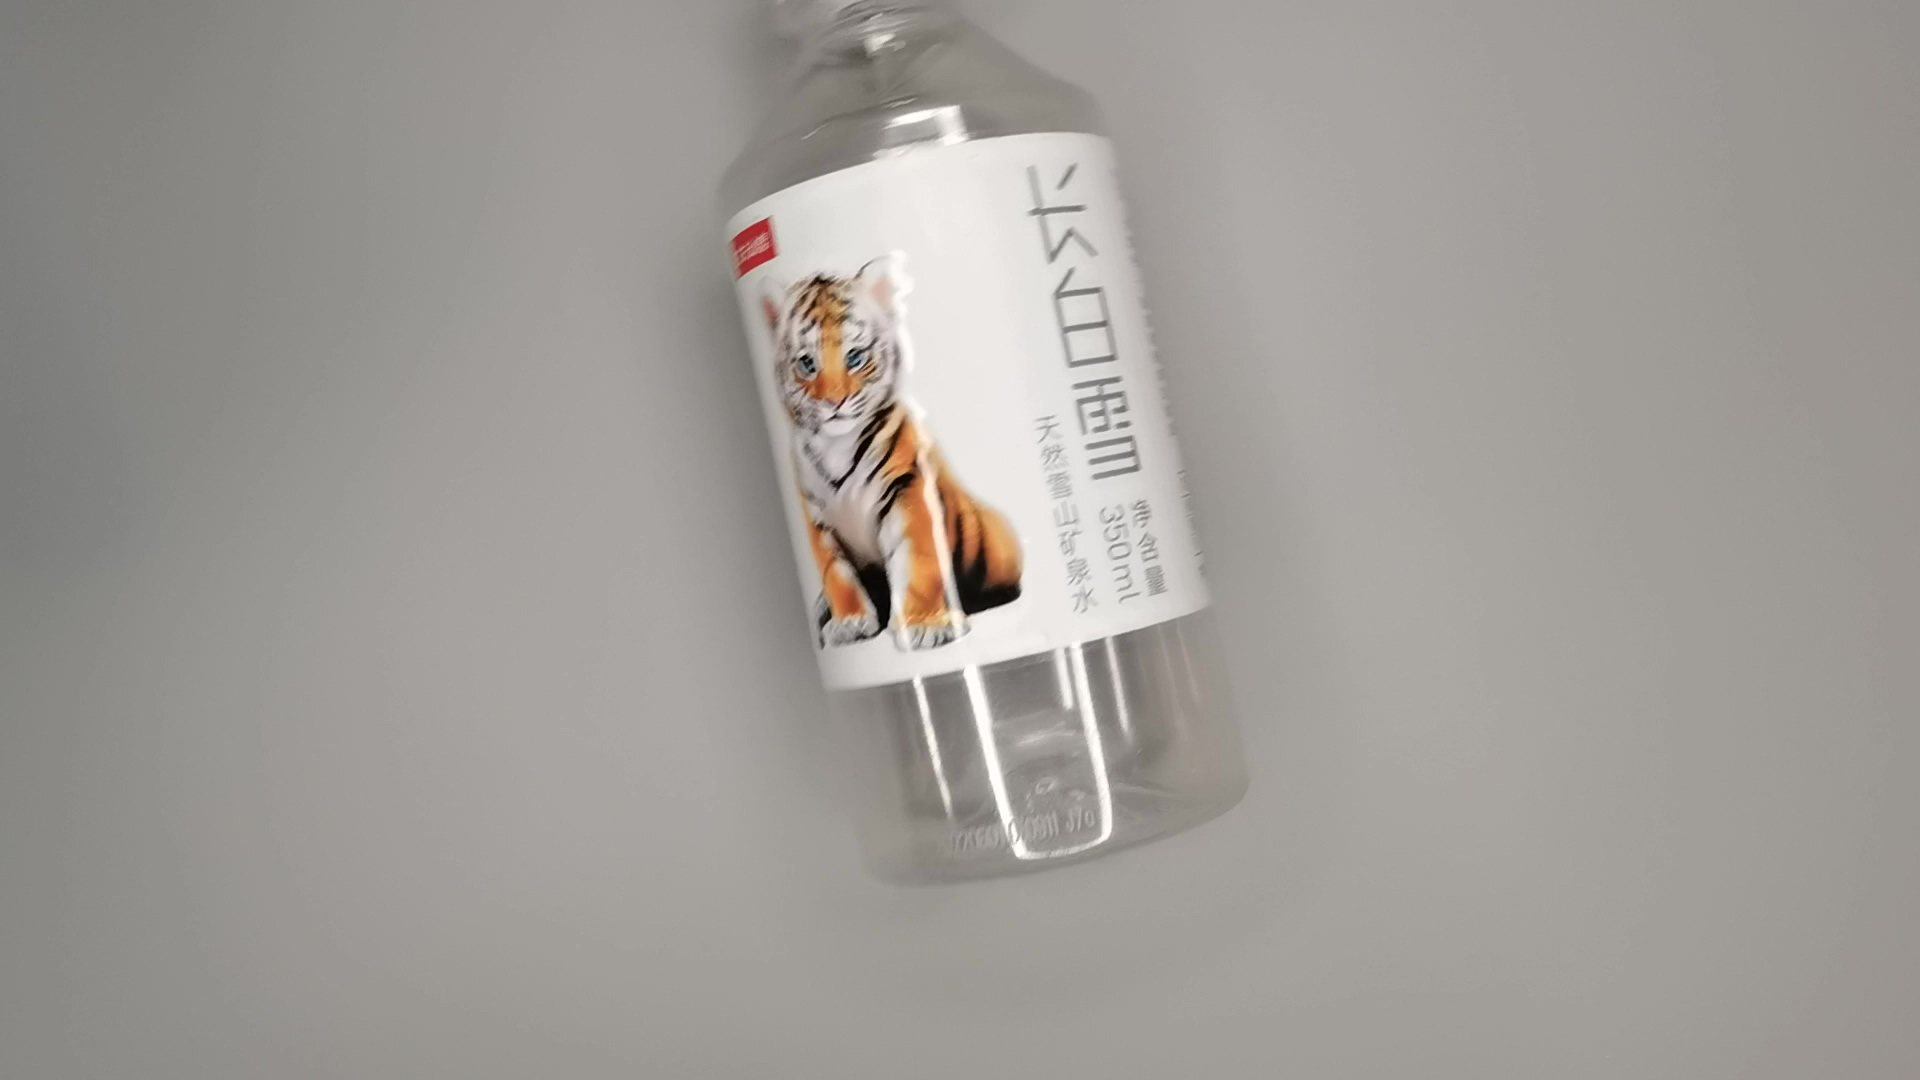bottle: (707, 1, 1257, 895)
